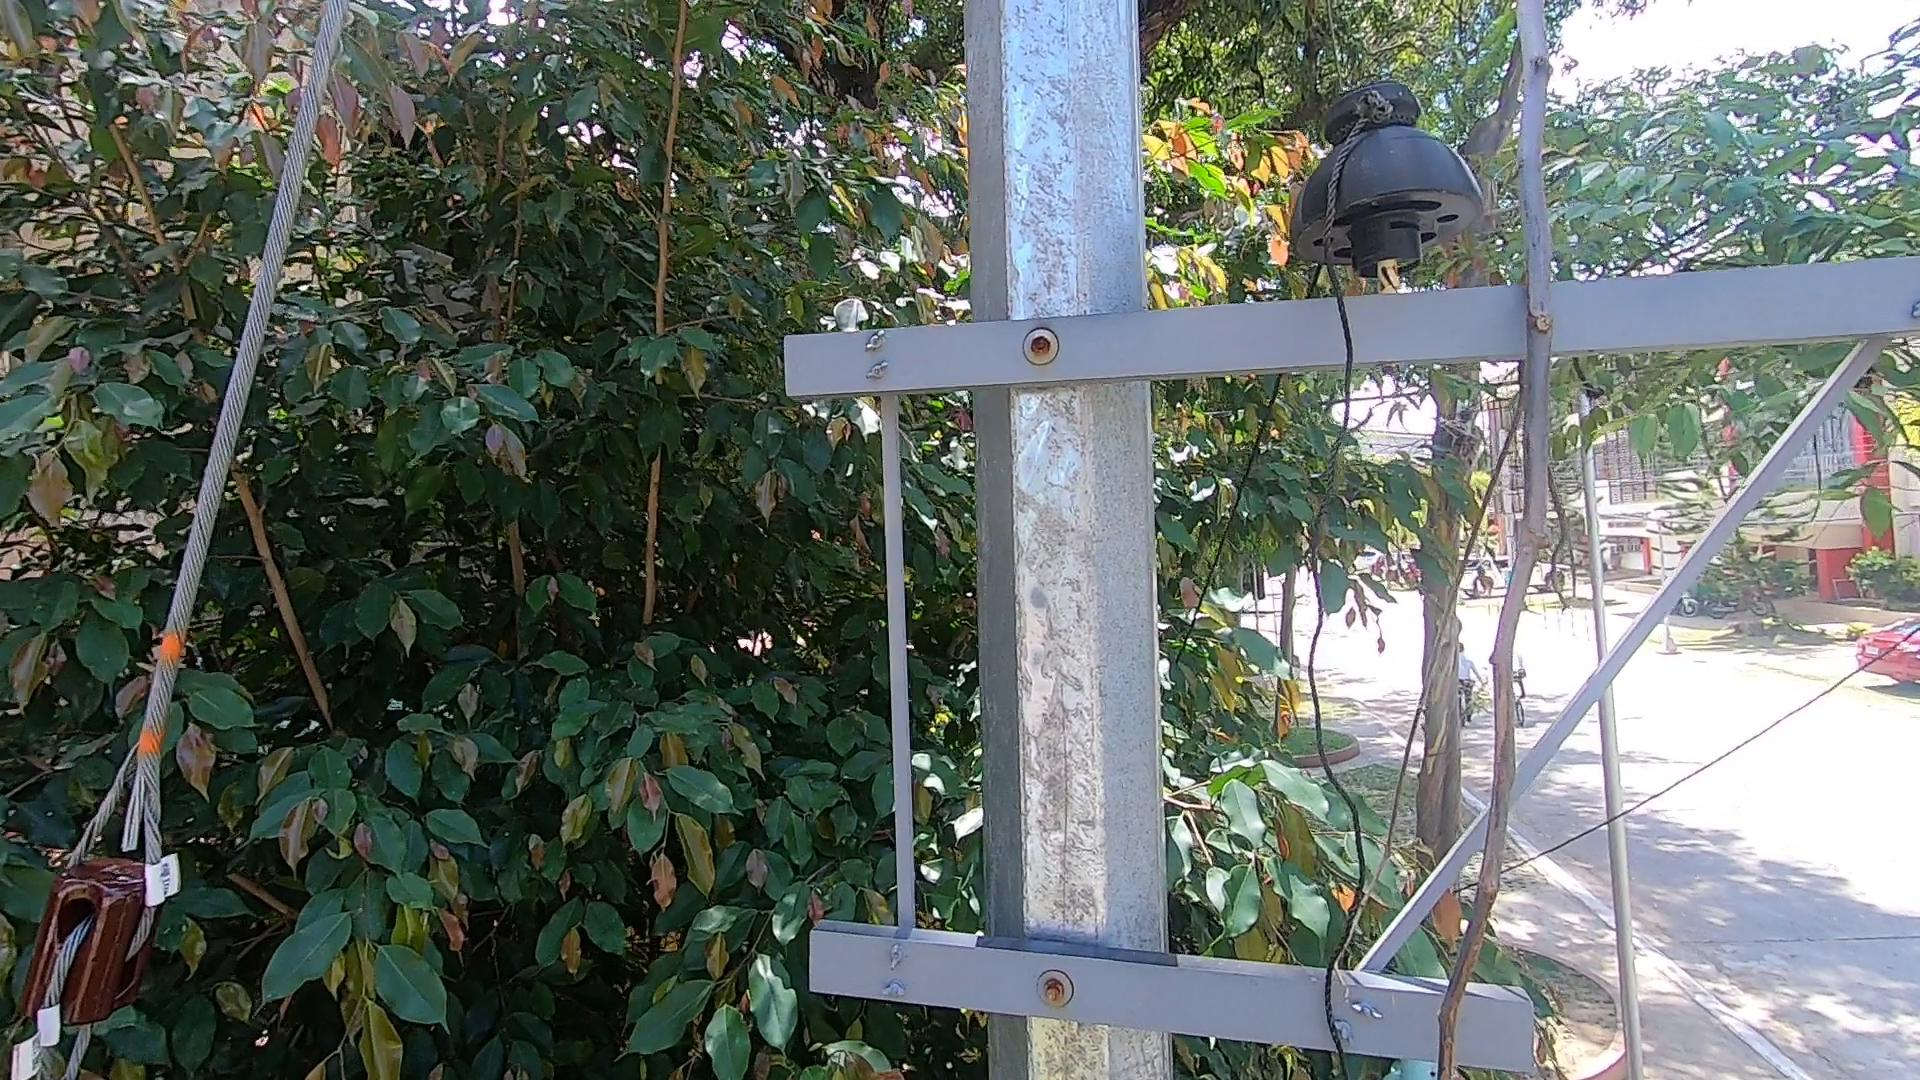branch with leaves: (1367, 899, 1575, 1025)
tree branch: (1402, 9, 1586, 1080)
